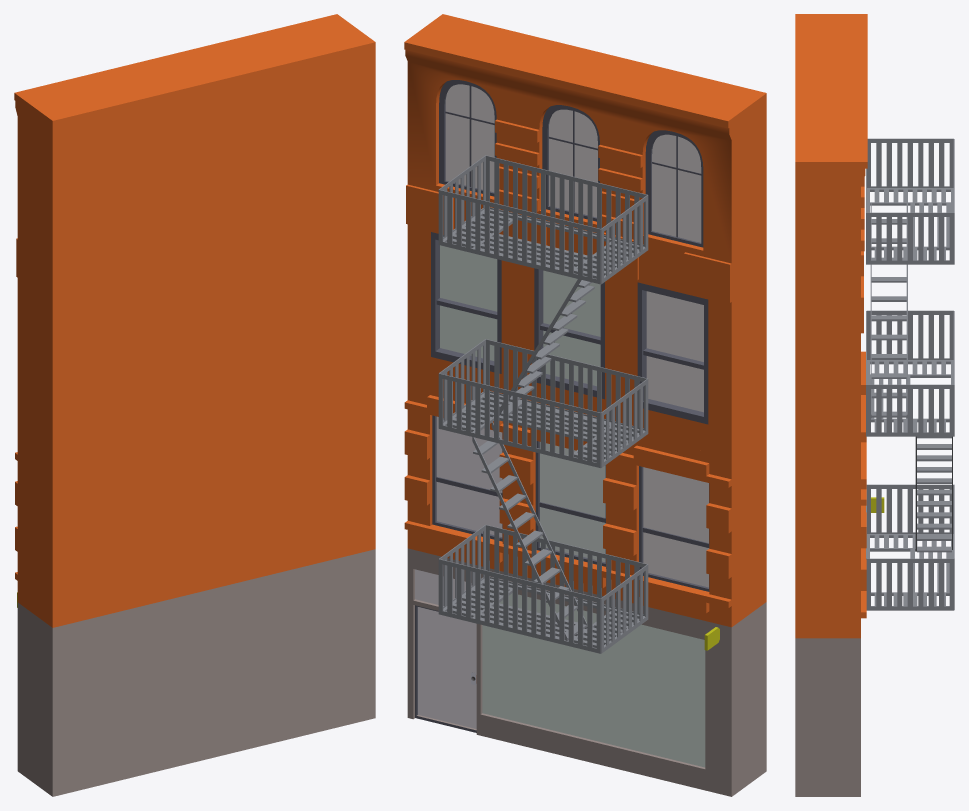
The picture shows the model from 3 angles, left to right: view 1: azimuth 30°, elevation 25°; view 2: azimuth 150°, elevation 25°; view 3: azimuth 270°, elevation 25°; orthographic projection. The views are drawn at different scales.
Visible parts, largest first — view 1: Facade012; view 2: Facade012; view 3: Facade012.
Boxes of the visible parts, x1,y1,x2,y2 form: Facade012: [14, 14, 375, 796]; Facade012: [404, 14, 766, 796]; Facade012: [795, 14, 954, 796].
Bounding box in the file's own units: 315 × 630 × 143.
